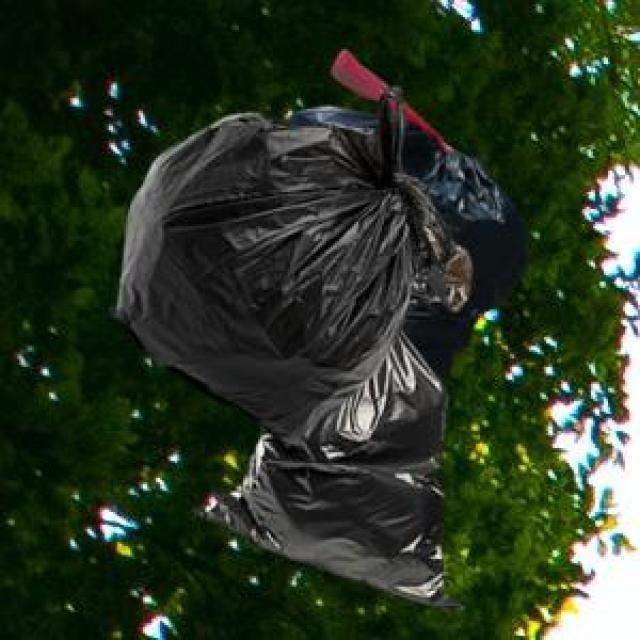waste: (116, 92, 525, 604)
